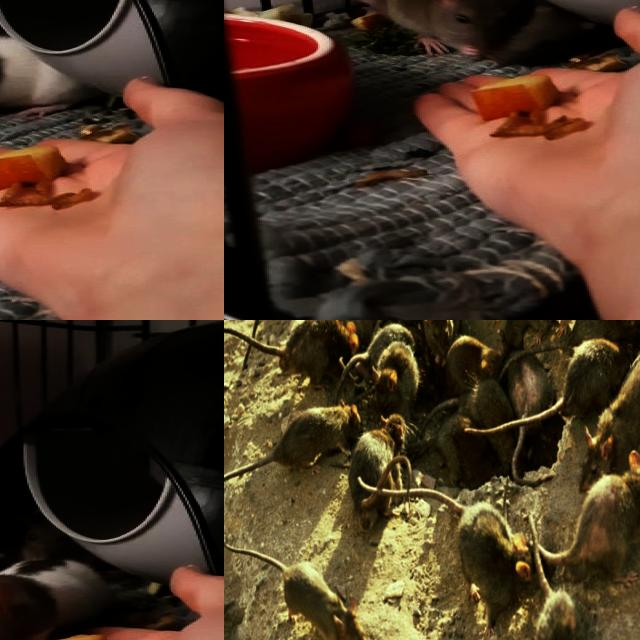rat: (0, 560, 113, 640), (0, 28, 96, 119), (382, 0, 529, 59), (282, 560, 369, 640), (0, 501, 84, 564), (279, 400, 359, 464)
